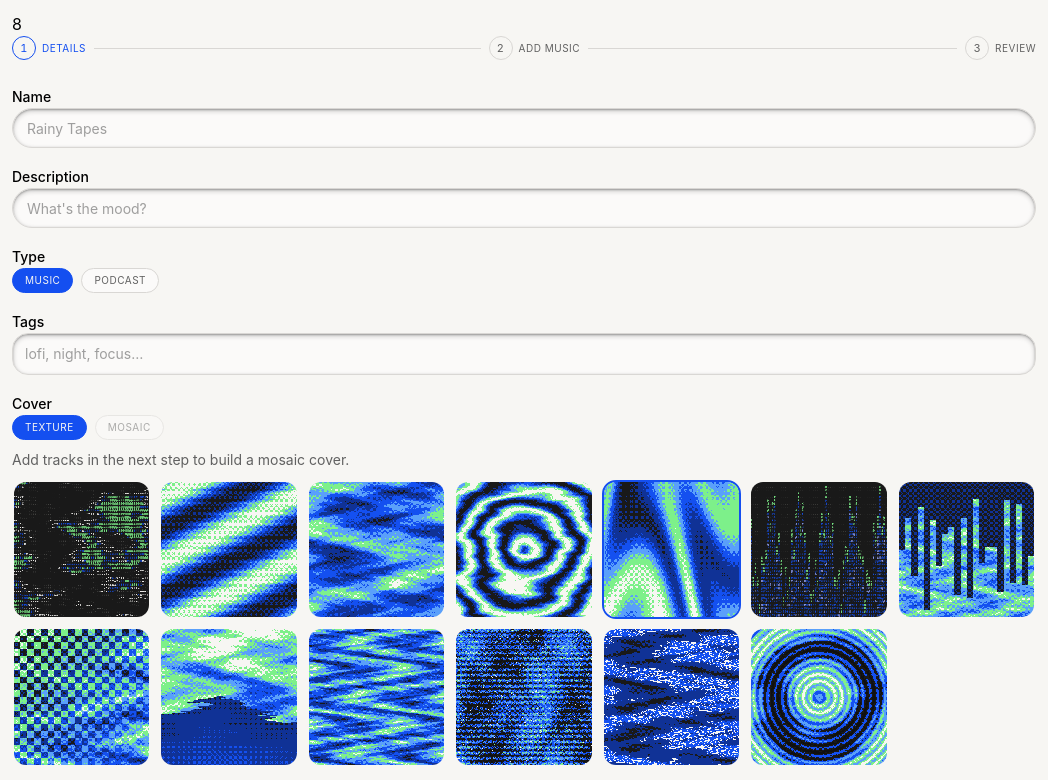
Test: CreatePlaylistFlow › tags › removes the right chip from its own x, leaving the others
Type "night" into the field labelled "Tags".
click(524, 354); type("night")  # box [25,340,1023,368]
Press Enter in the field labelled "Tags", box [25,340,1023,368]
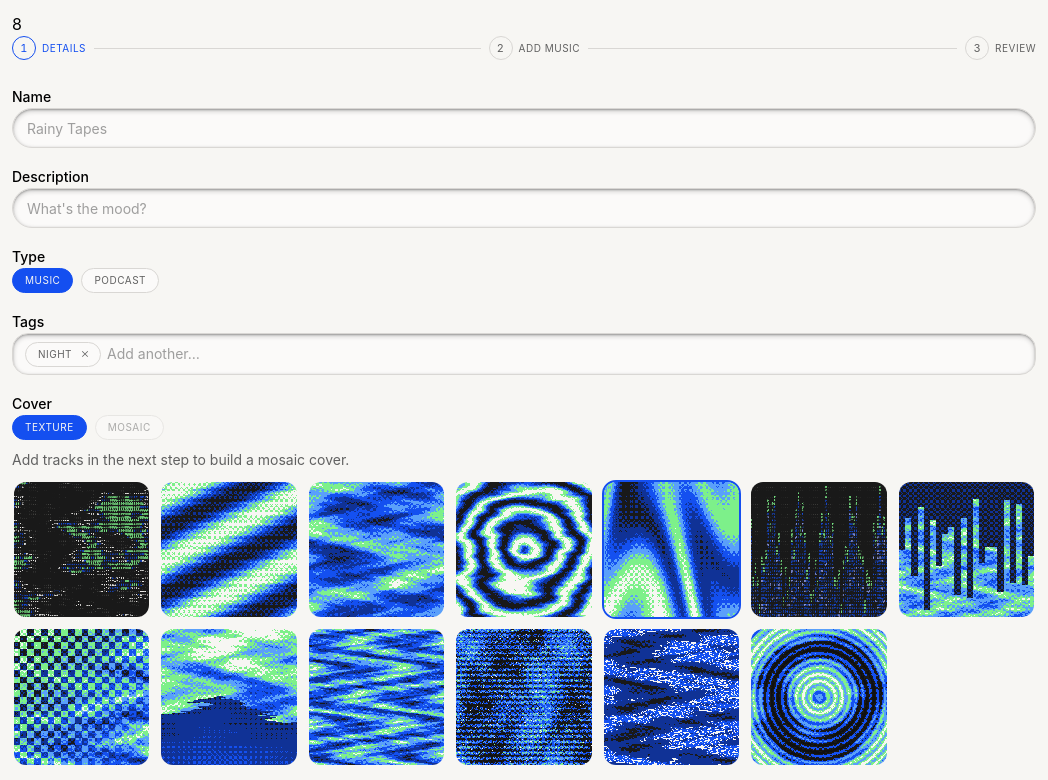
Type "focus" into the field labelled "Tags".
click(565, 354); type("focus")  # box [107,340,1023,368]
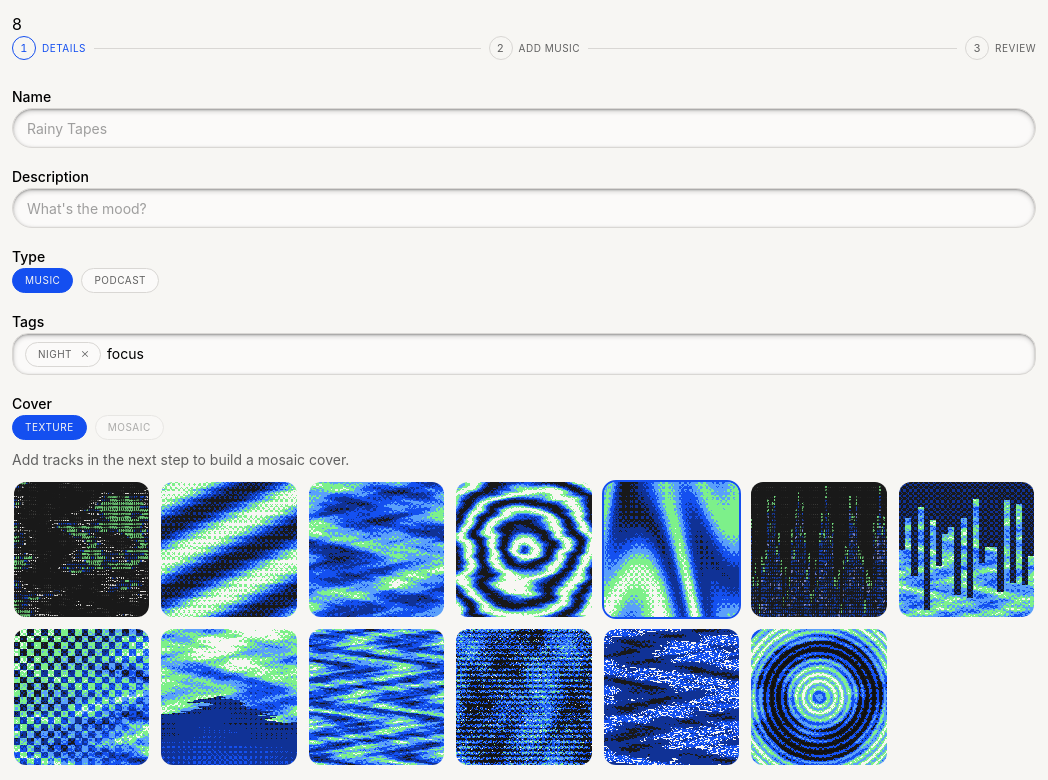
Press Enter in the field labelled "Tags", box [107,340,1023,368]
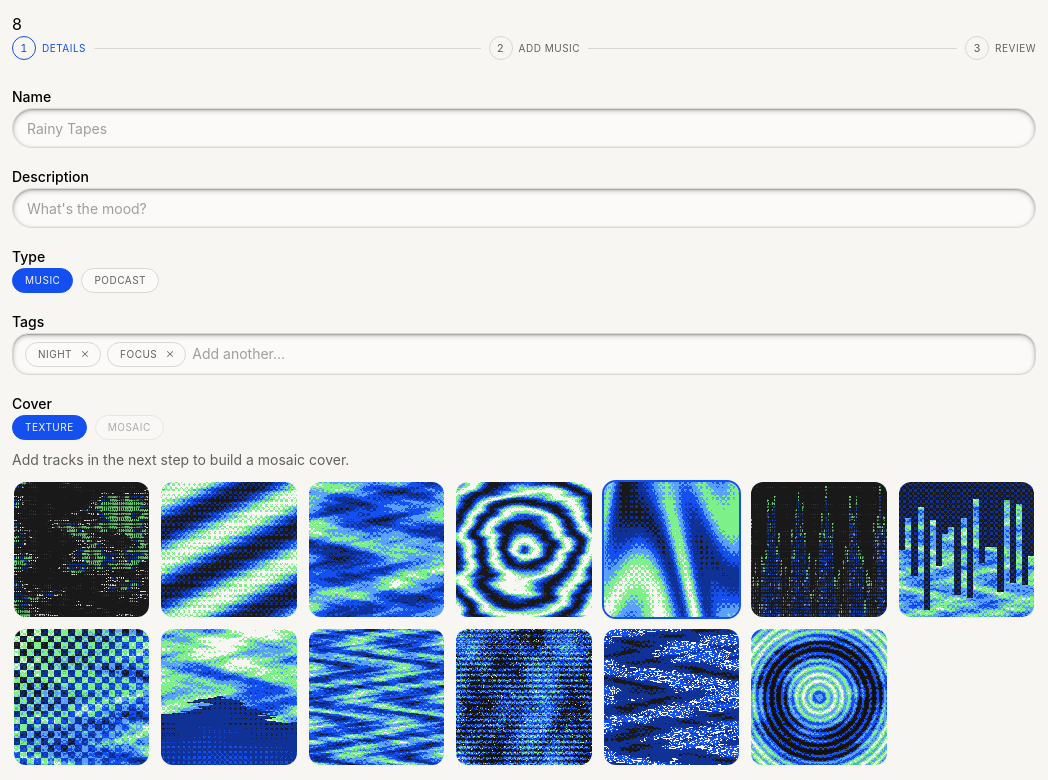
Type "chill" into the field labelled "Tags".
click(608, 354); type("chill")  # box [192,340,1023,368]
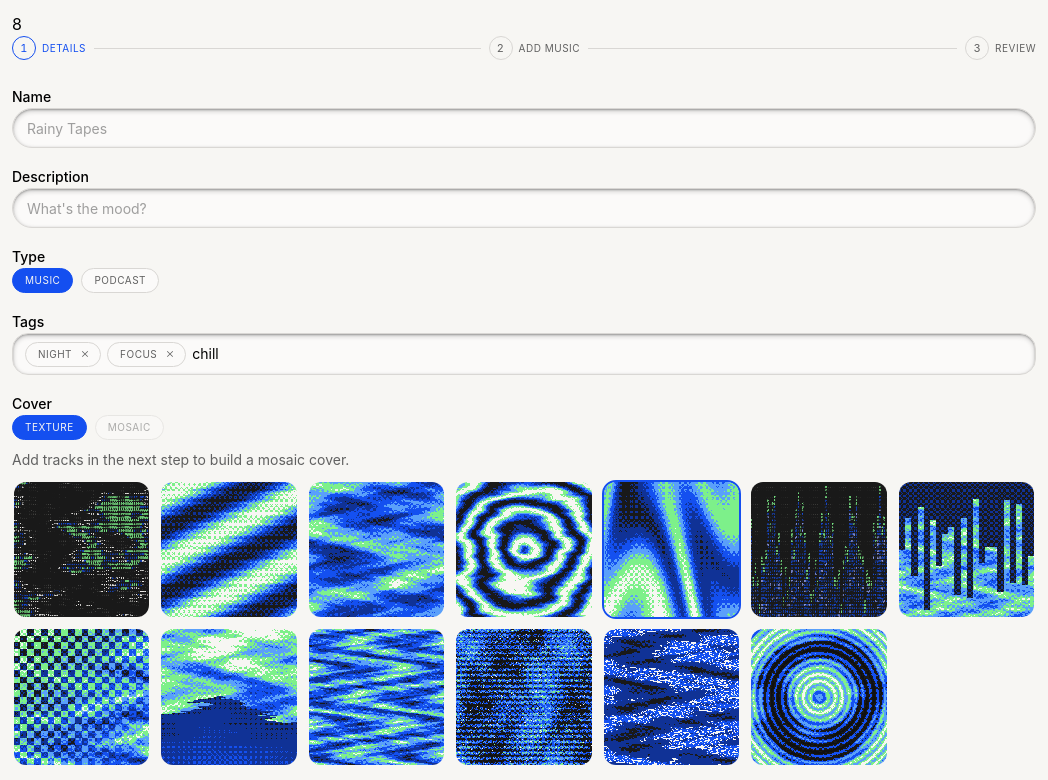
Press Enter in the field labelled "Tags", box [192,340,1023,368]
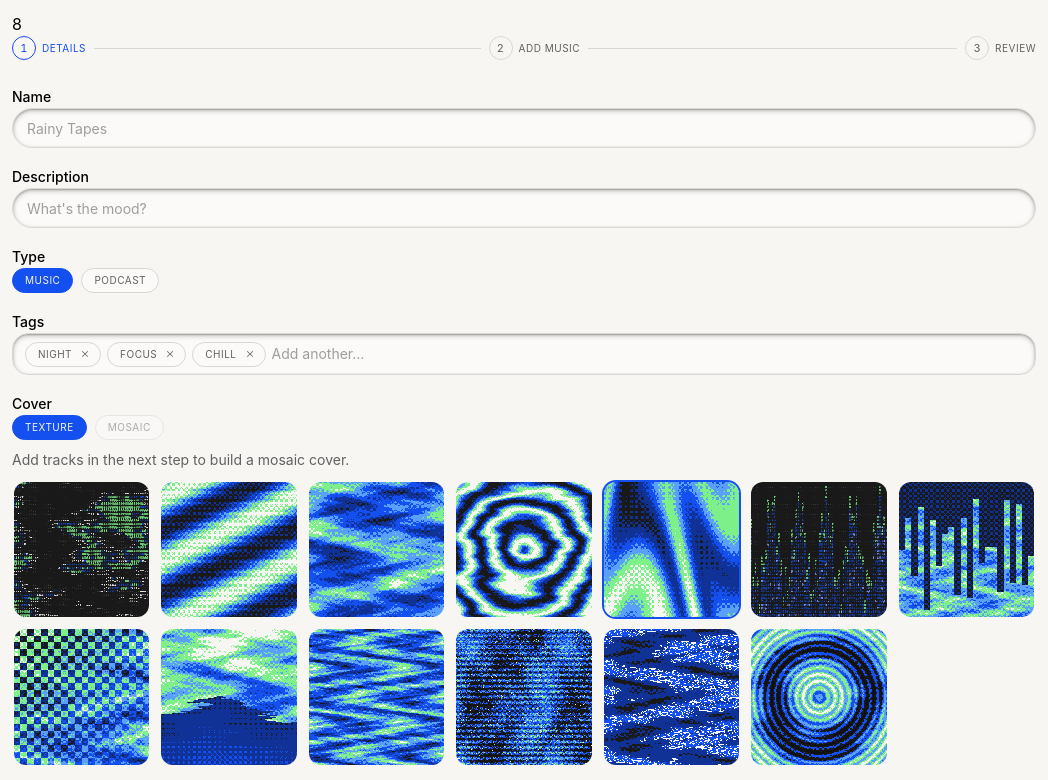
Click the button named "Remove focus".
click(170, 354)  # box [163,347,177,361]
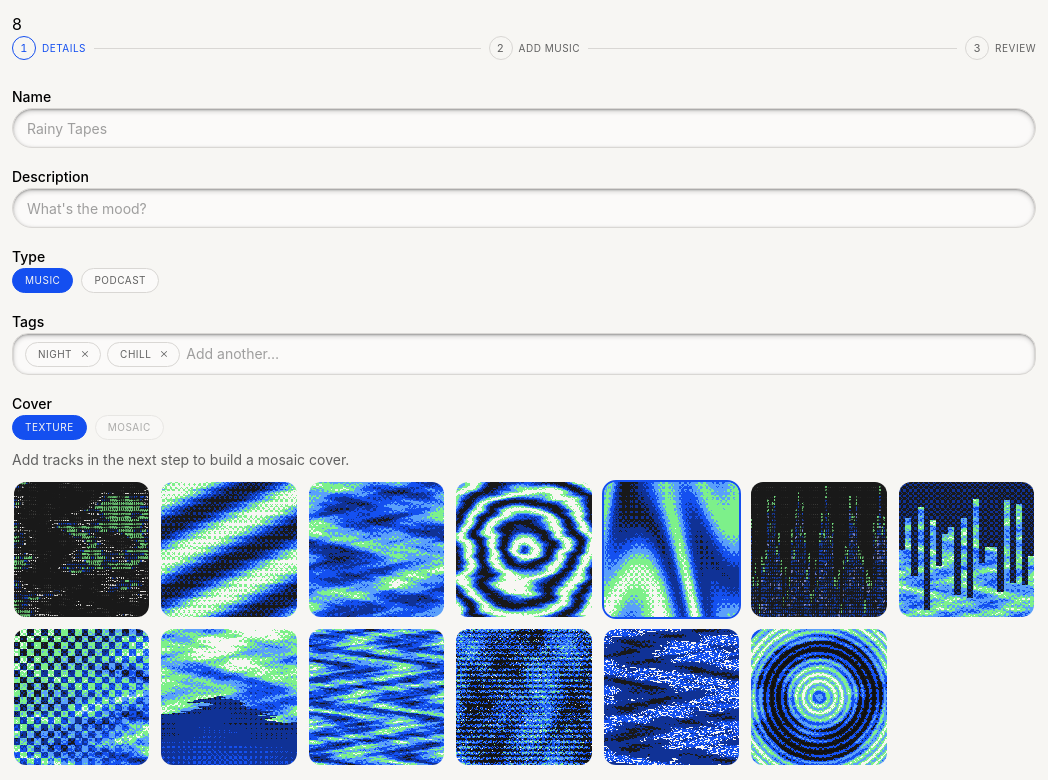
Check: the text "night" is shown, box [25,342,101,366]
Check: the text "chill" is shown, box [107,342,180,366]
Check: the text "focus" is gone
